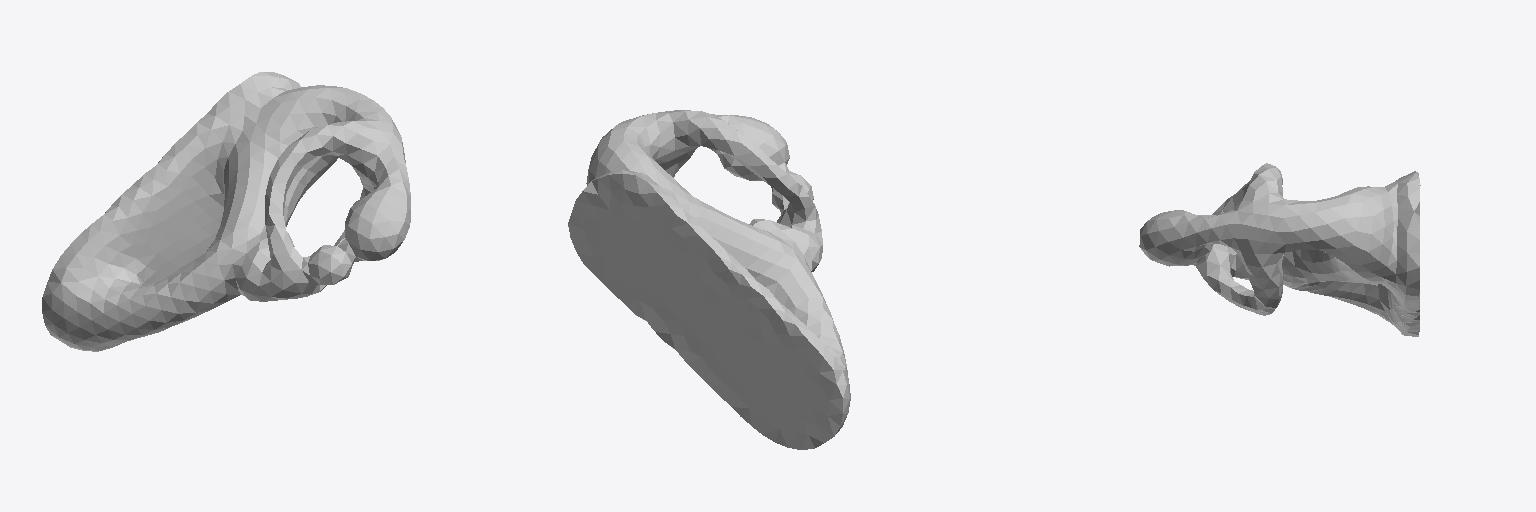
The model's file is motherChild_1k.obj.
3 renders of one model, left to right at view 1: azimuth 30°, elevation 25°; view 2: azimuth 150°, elevation 25°; view 3: azimuth 270°, elevation 25°, orthographic.
Bounding box in the file's own units: 125 × 98.06 × 105.